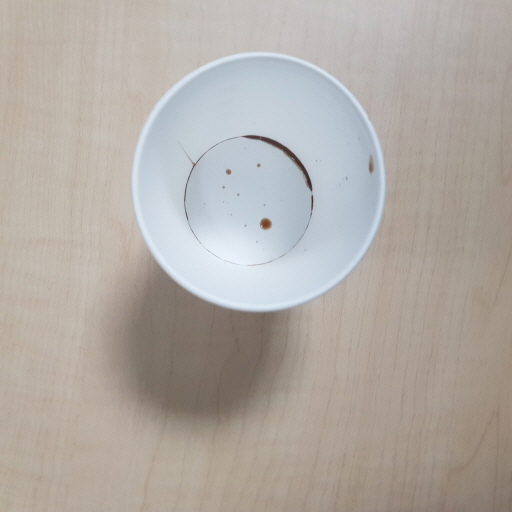Paper_1: (128, 52, 388, 313)
